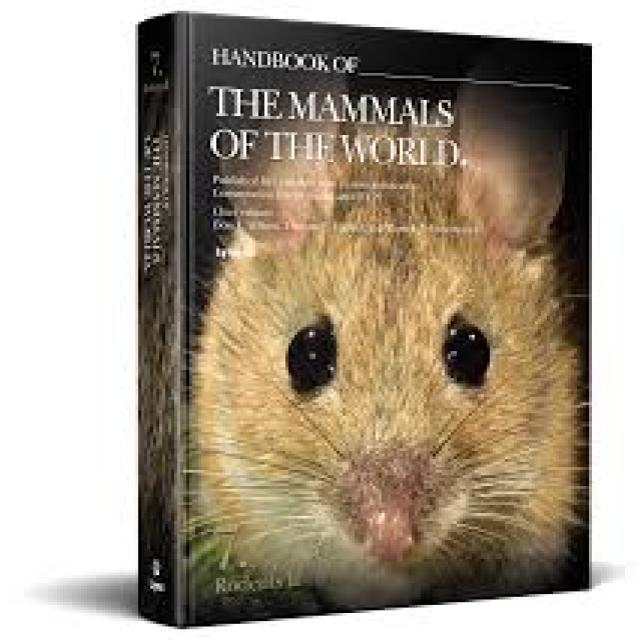rat: (177, 94, 586, 610)
